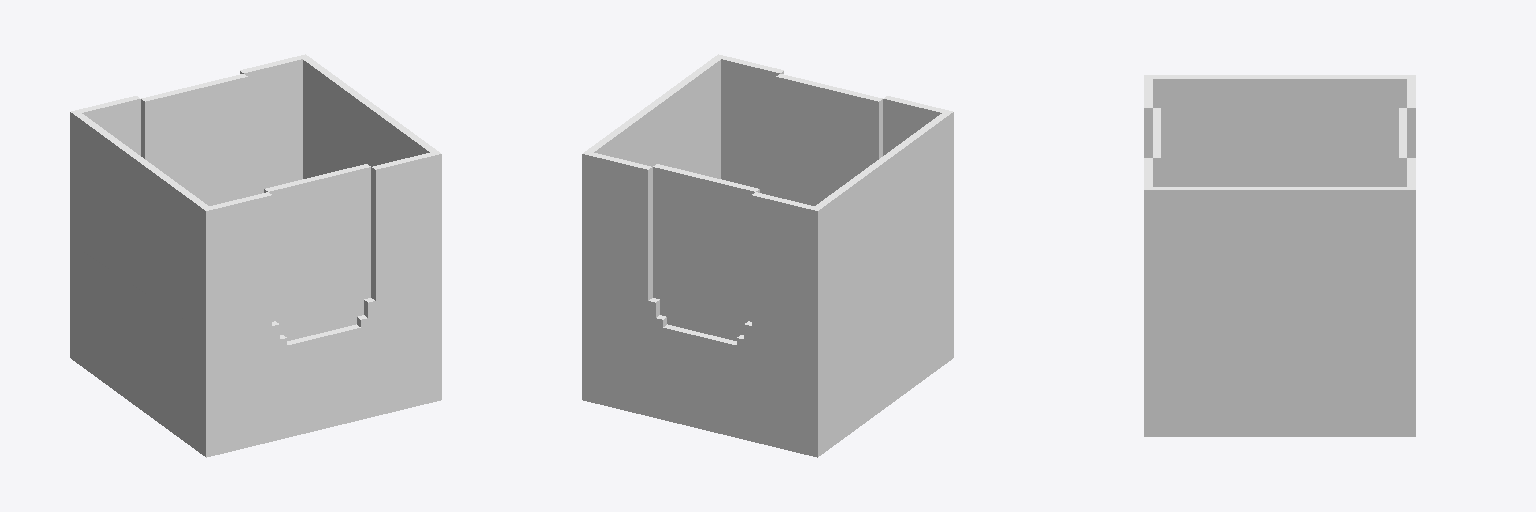
3 renders of one model, left to right at view 1: azimuth 30°, elevation 25°; view 2: azimuth 150°, elevation 25°; view 3: azimuth 270°, elevation 25°, orthographic.
Visible parts, largest first — view 1: test-72; view 2: test-72; view 3: test-72.
Boxes of the visible parts, box(x1,y1,x2,y2) form: test-72: box(70, 54, 441, 457); test-72: box(582, 54, 953, 457); test-72: box(1144, 75, 1415, 436).
Bounding box in the file's own units: 32 × 32 × 32.